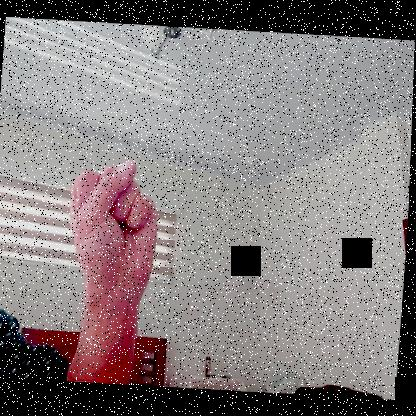S: (64, 154, 166, 290)
